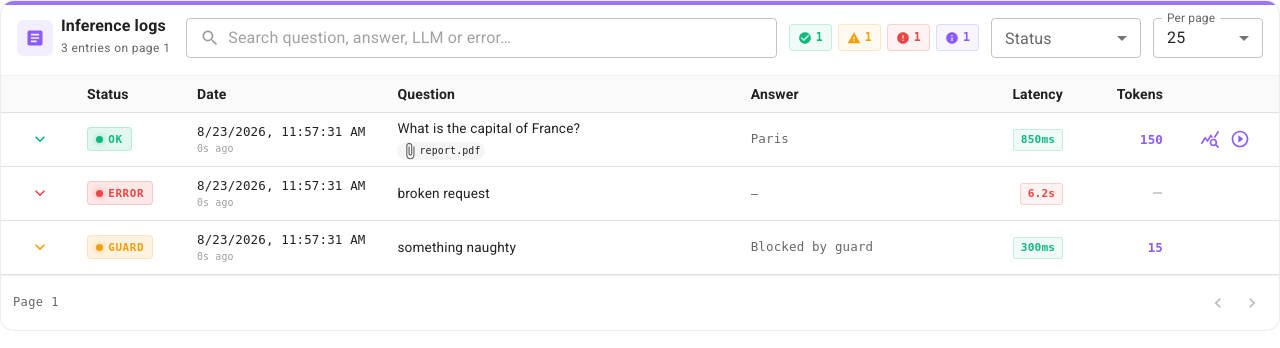
Test: ProjectLogs › filters rows by free-text search
expect the text "What is the capital of France?" is shown: met, box [398,120,580,136]
Type "broken" into the field with placeholder "Search question, answer, LLM or error…" at (502, 38), box [228,18,777,58]
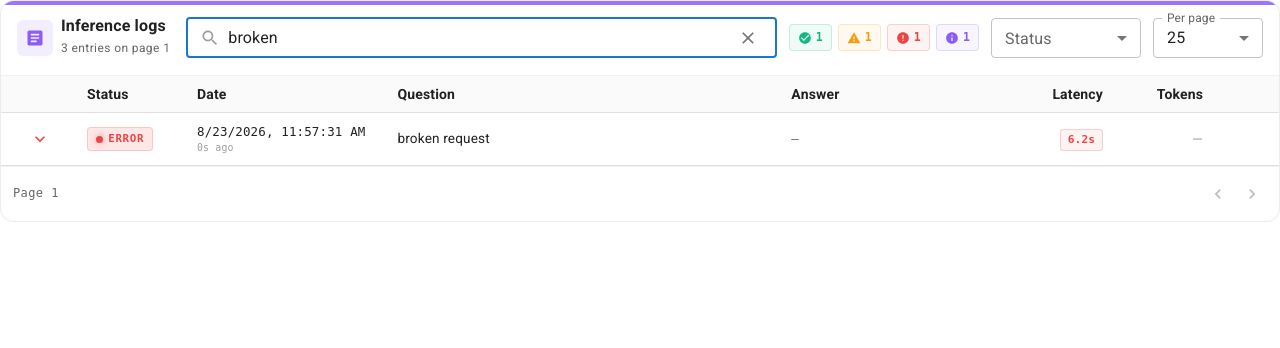
expect the text "broken request" is shown: met, box [398,130,490,146]
expect the text "What is the capital of France?" is gone: met
expect the text "something naughty" is gone: met
